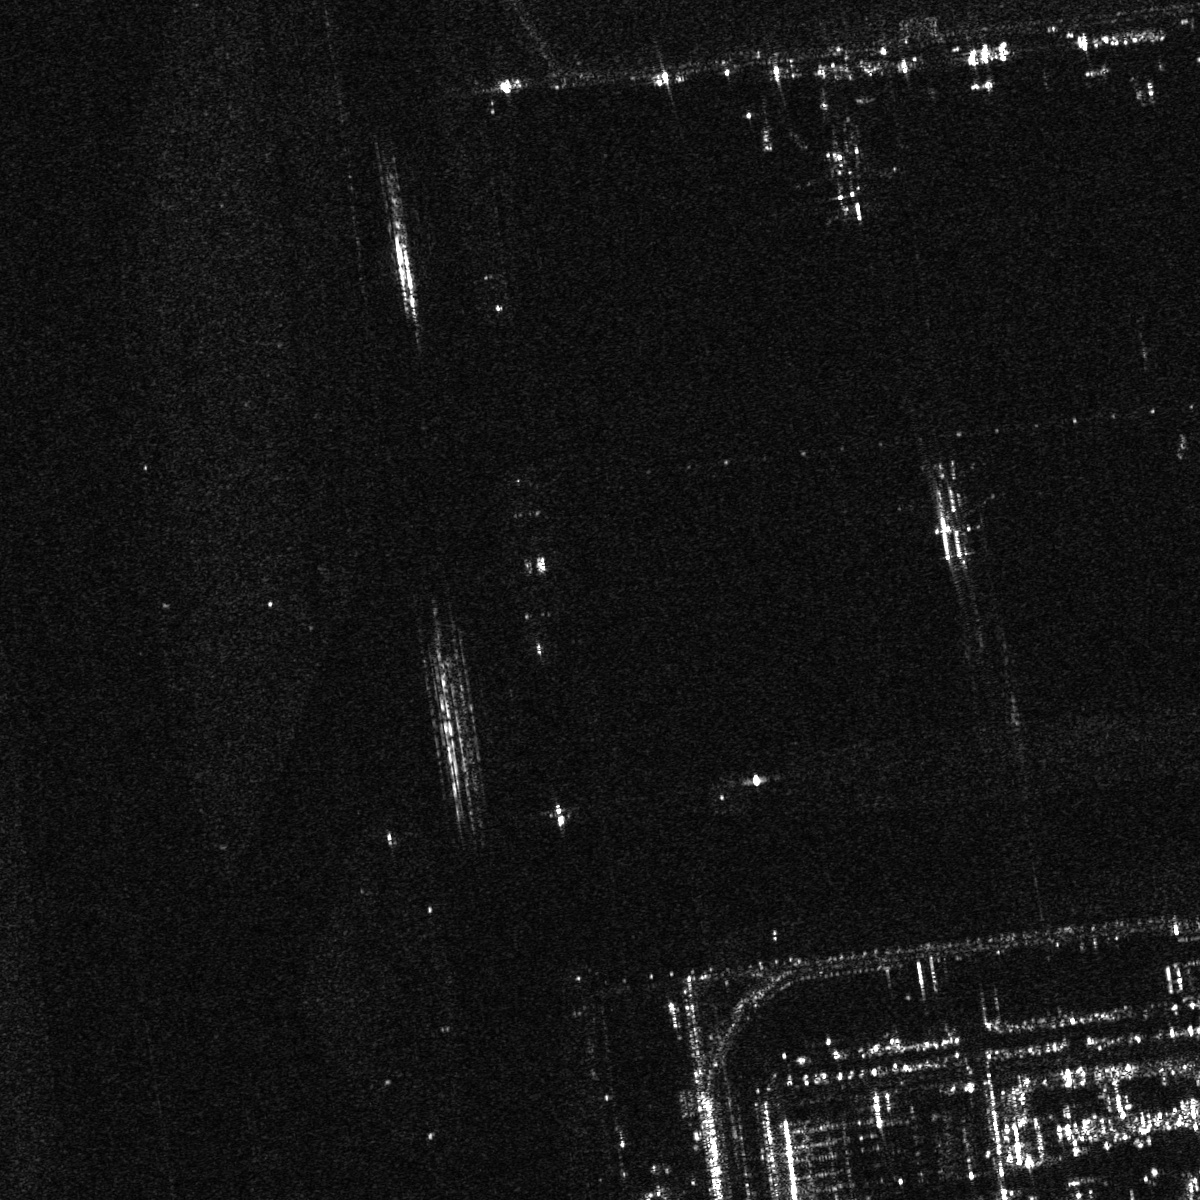A320/321: (791, 116, 899, 229)
